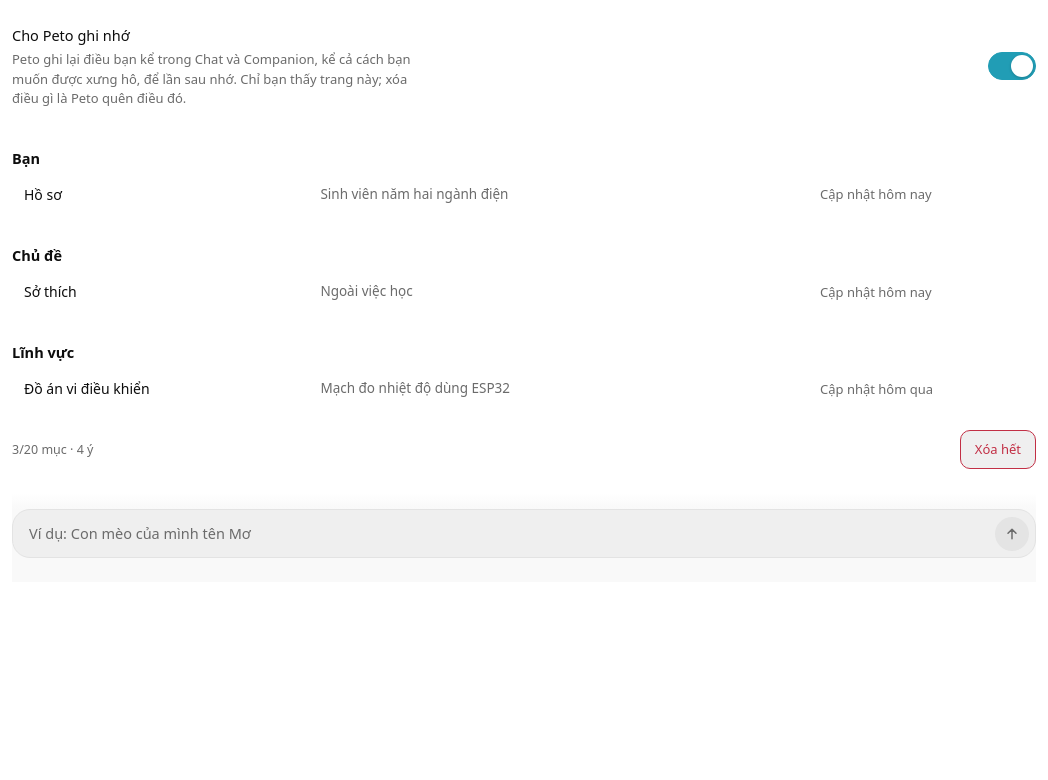
xóa không được thì mục quay lại và báo lỗi của máy chủ, không hiện Hoàn tác
The image size is (1048, 780).
What coordinates should you click on to do the following:
click the button "Hồ sơ Sinh viên năm hai ngành điện Cập nhật hôm nay"
I would click on:
 (484, 195)
Its box is x1=12 y1=172 x2=956 y2=218.
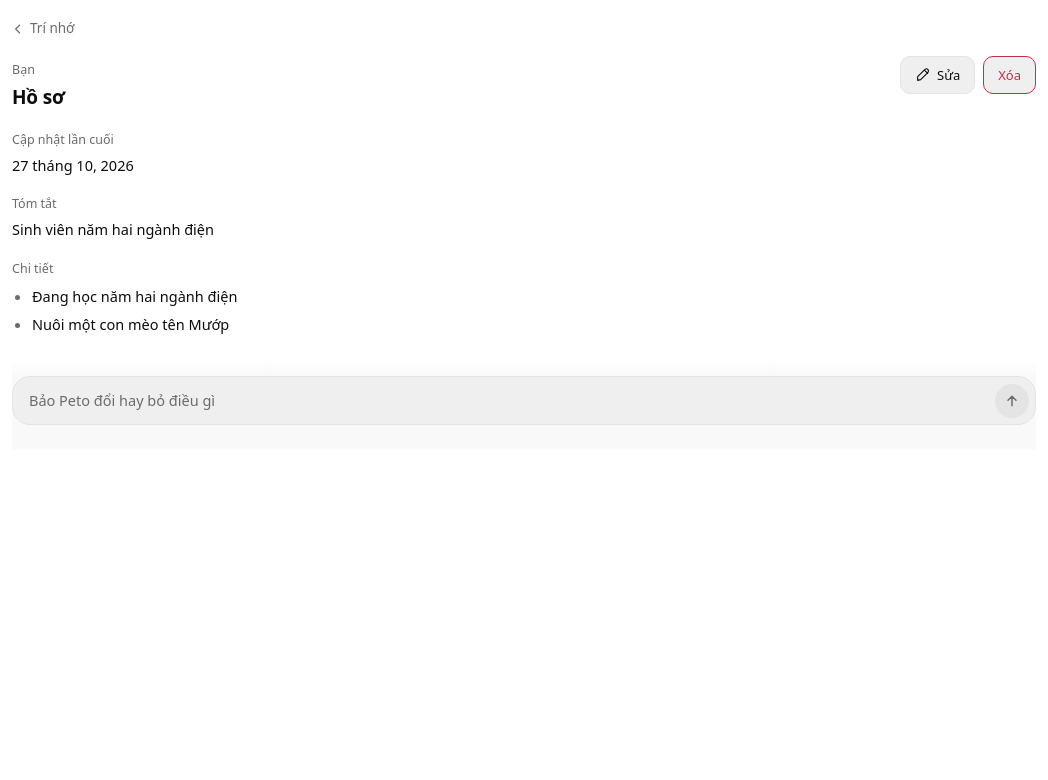
What coordinates should you click on to do the following:
click the button "Xóa"
I would click on:
 (1010, 75)
Its box is x1=983 y1=56 x2=1036 y2=94.
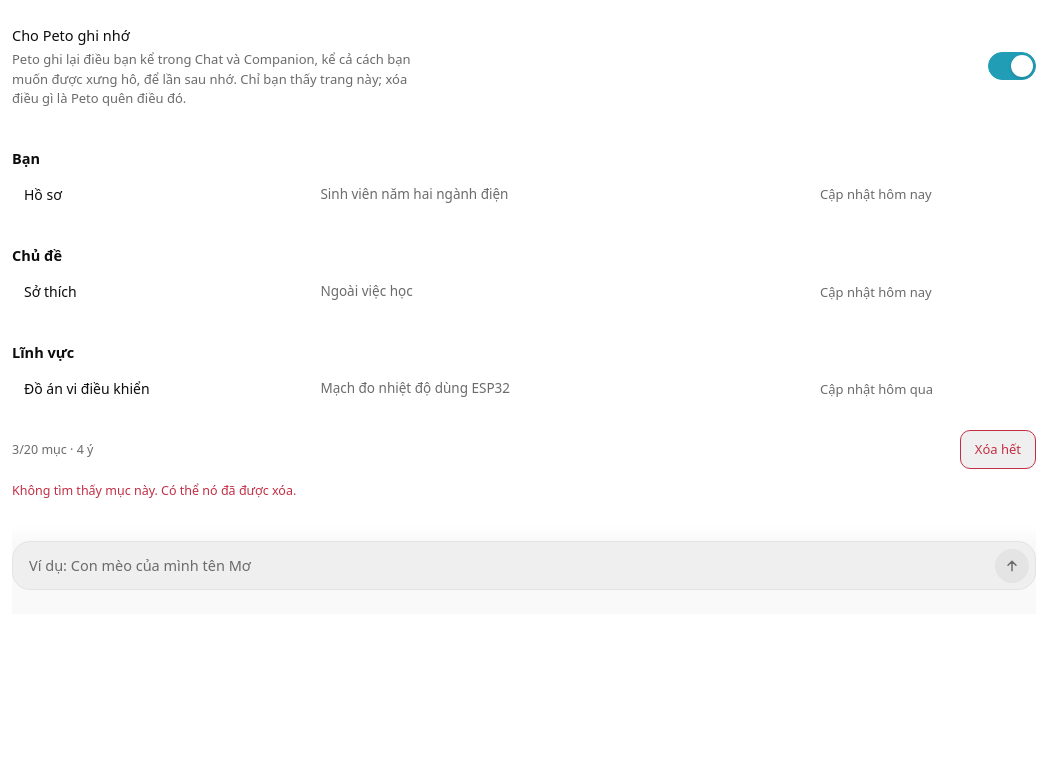
Now the message reads "Không tìm thấy mục này. Có thể nó đã được xóa.", box x1=12 y1=482 x2=296 y2=499
Now the button "Hồ sơ Sinh viên năm hai ngành điện Cập nhật hôm nay" is shown, box x1=12 y1=172 x2=956 y2=218
